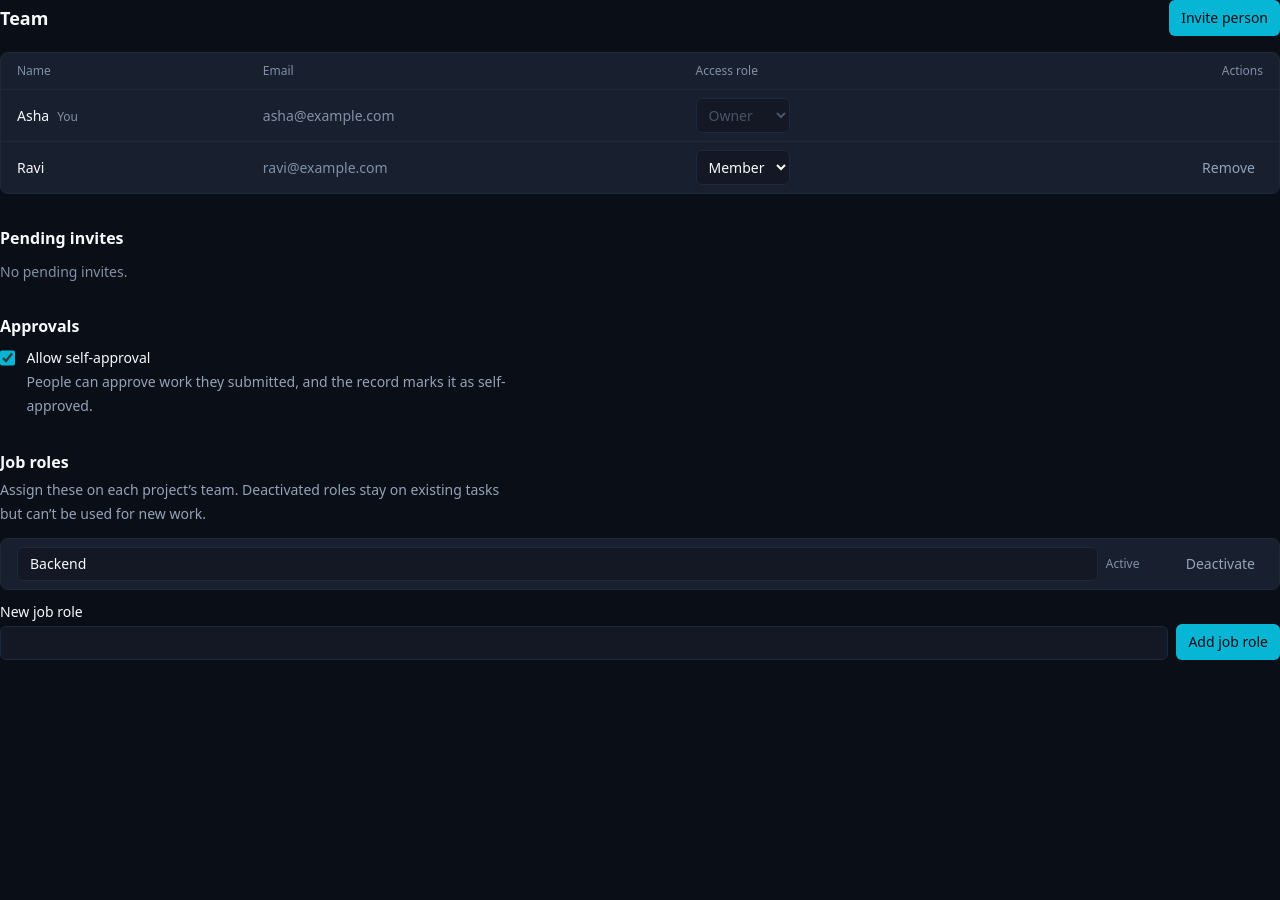
Test case: TeamPage › confirms before removing a member
Click the button with aria-label "Remove Ravi" at (1229, 168), box [1194,154,1263,182]
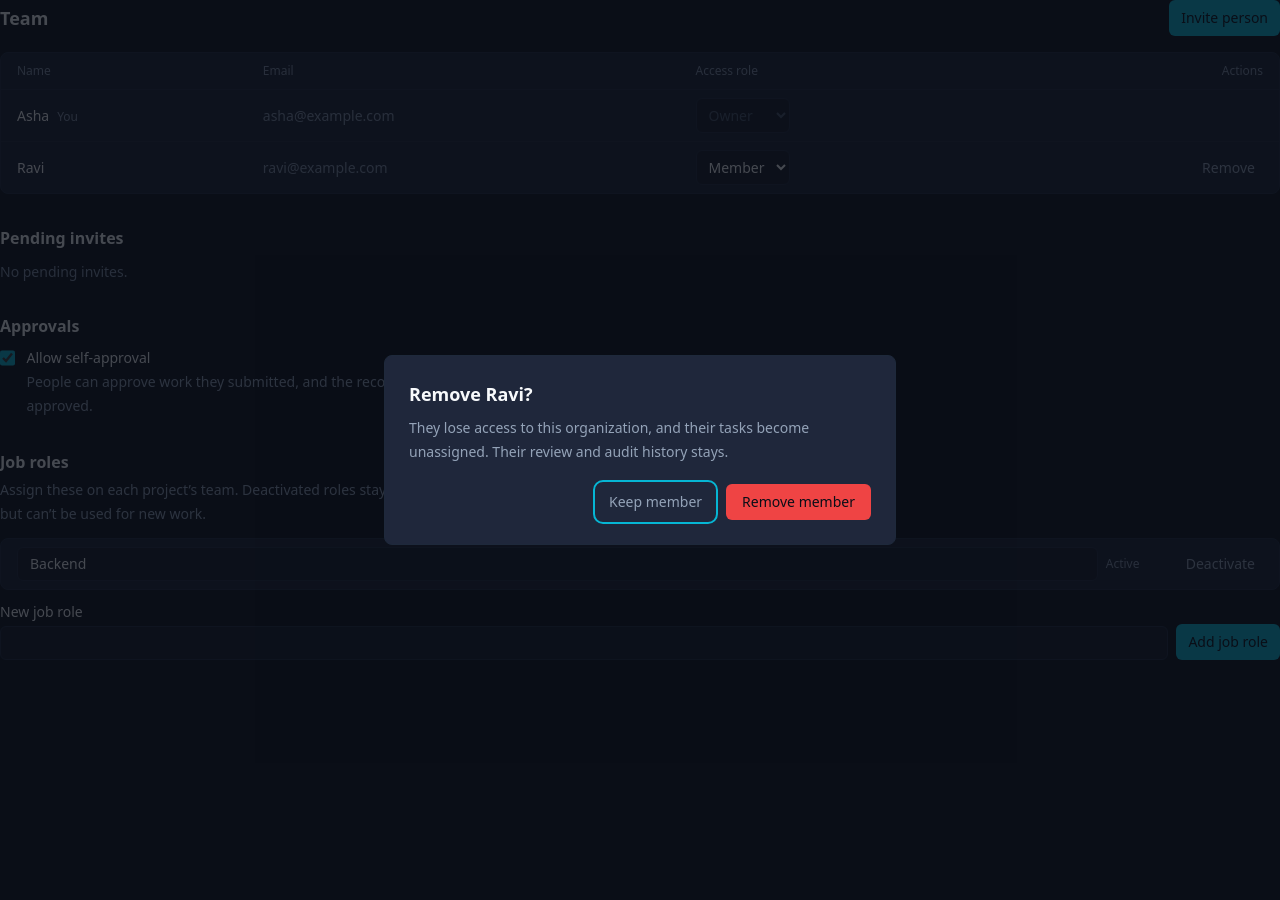
Click the button "Keep member" at (656, 502), box [597,484,714,520]
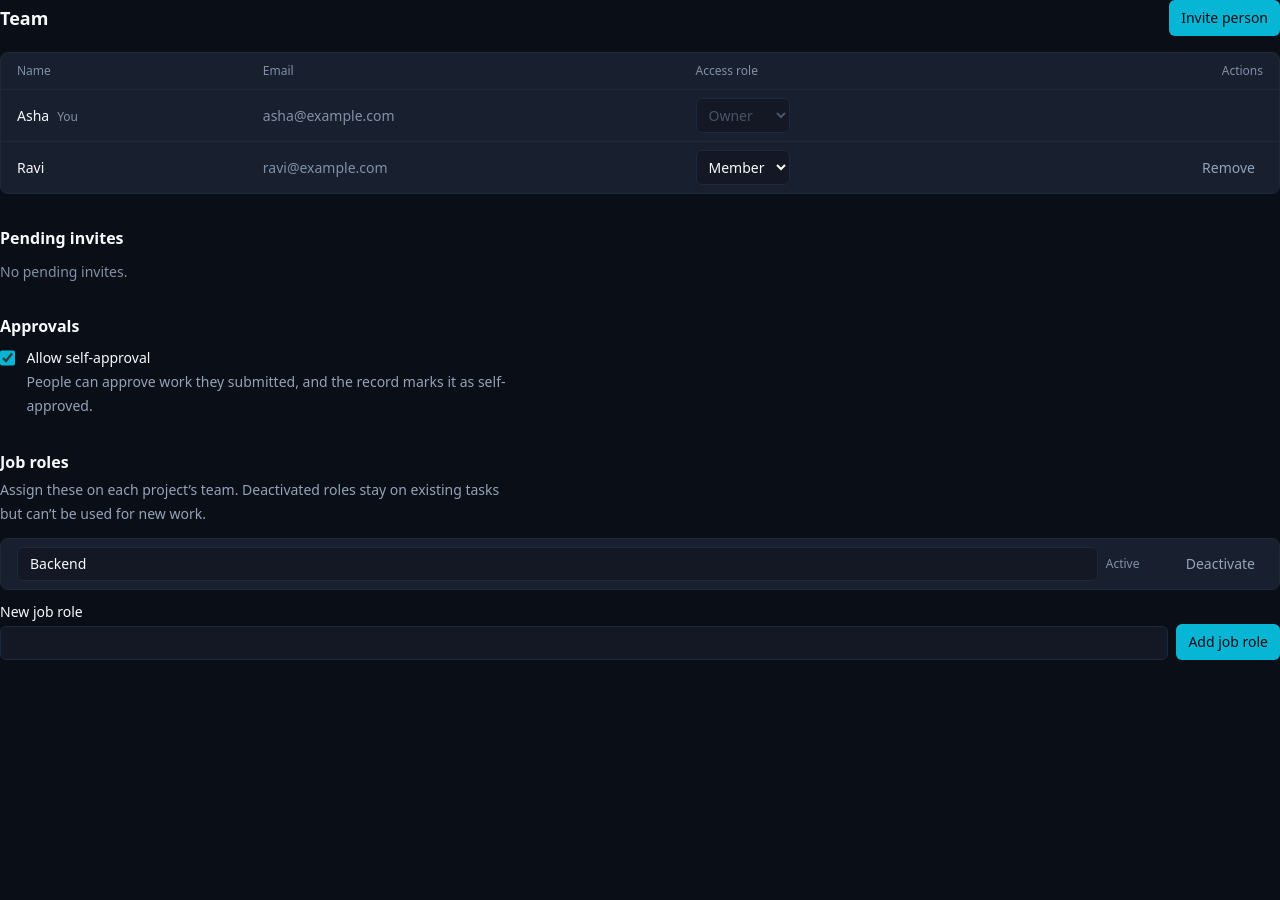
Result: the dialog is gone
Click the button with aria-label "Remove Ravi" at (1229, 168), box [1194,154,1263,182]
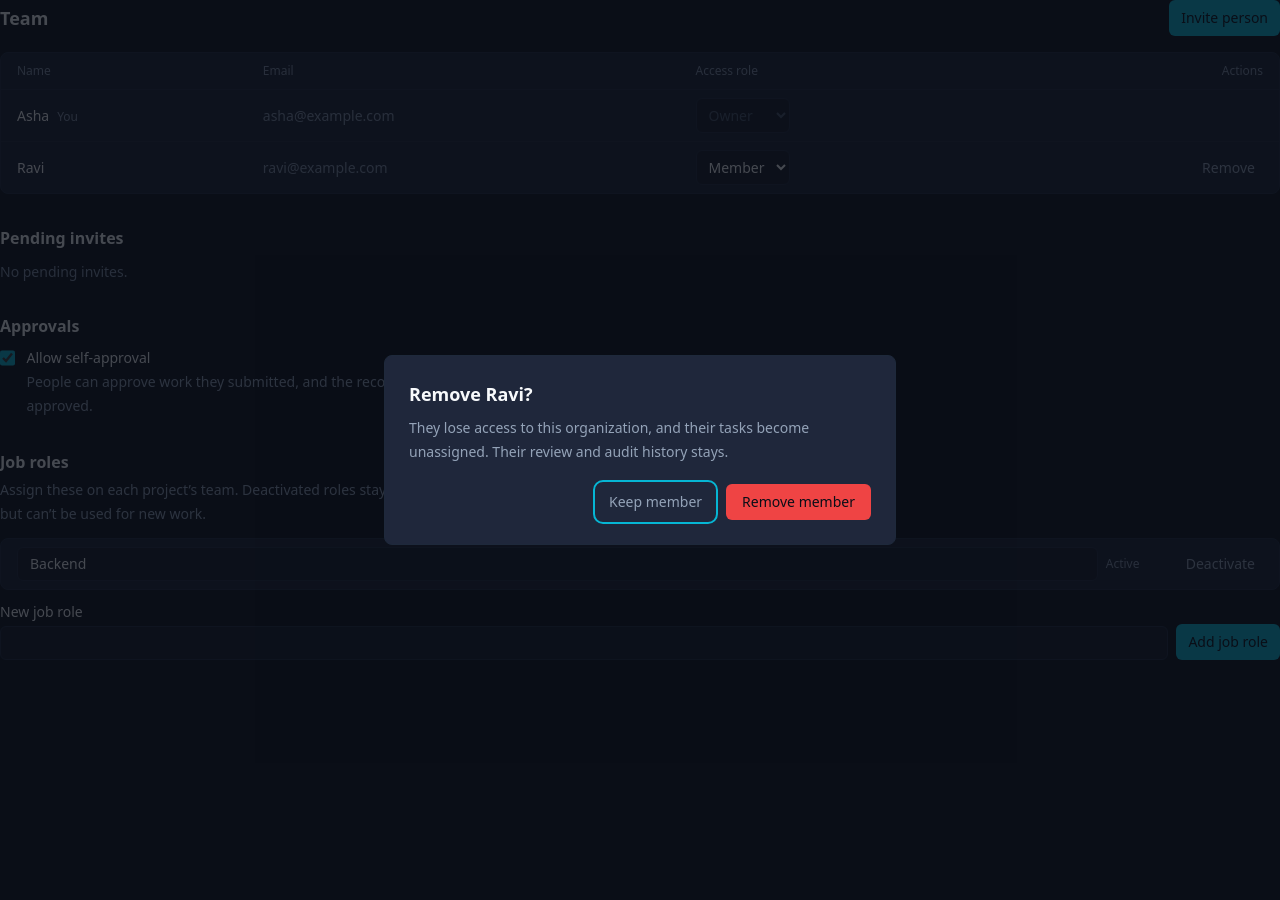
Click the button "Remove member" at (799, 502), box [726,484,871,520]
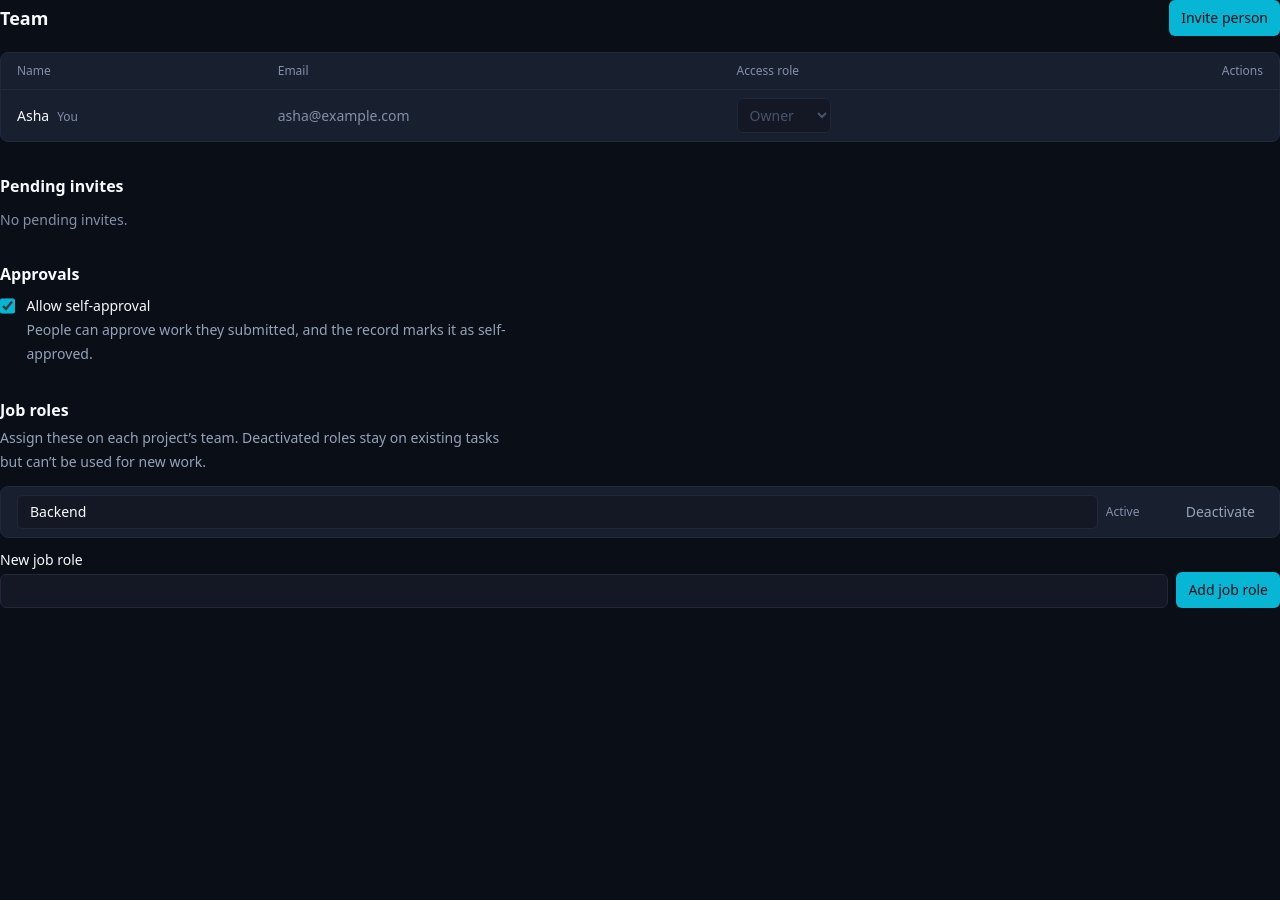
Result: the text "Ravi" is gone
